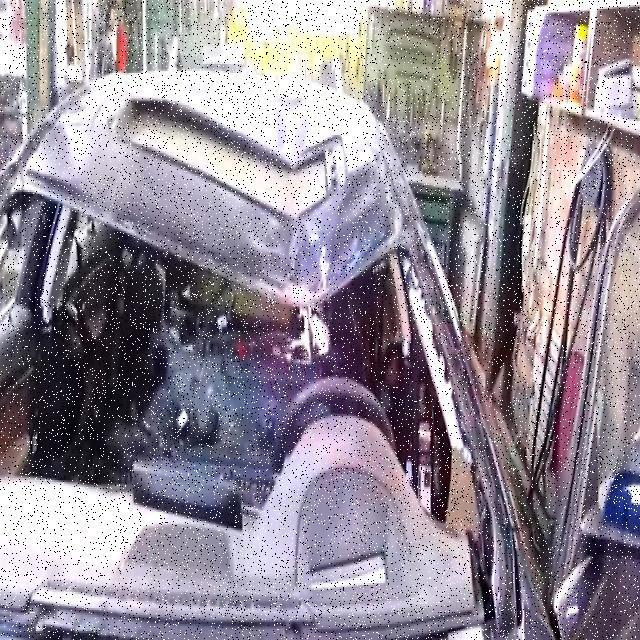roof-dent: (28, 68, 403, 314)
